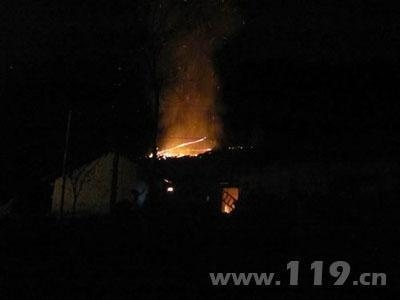fire: (150, 138, 213, 159)
